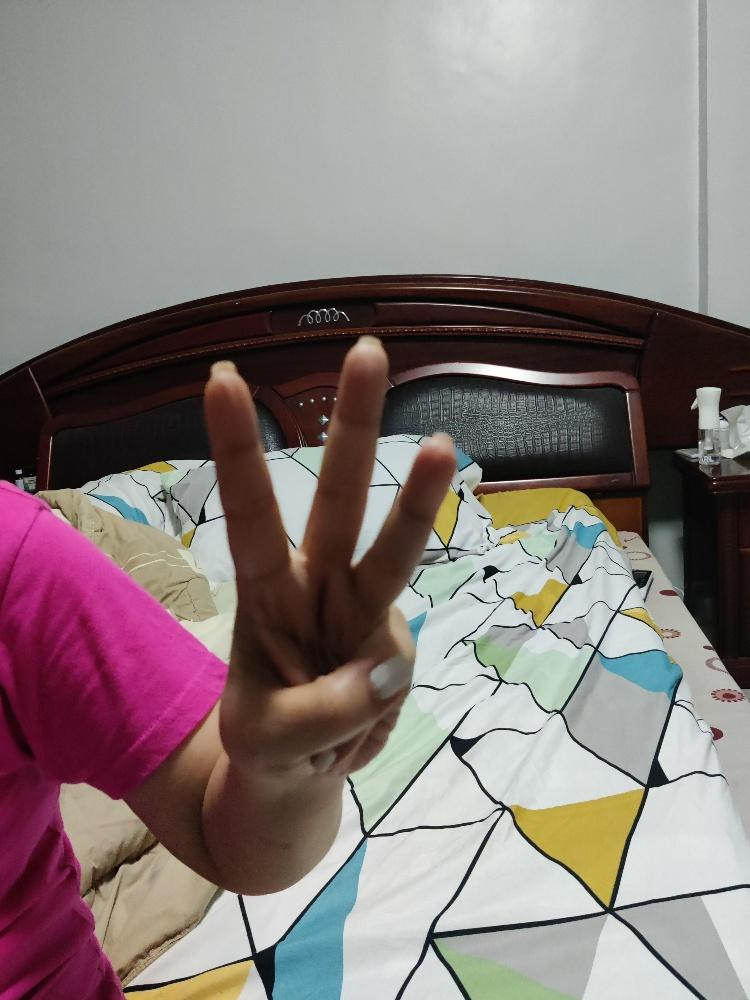w: (200, 333, 458, 788)
